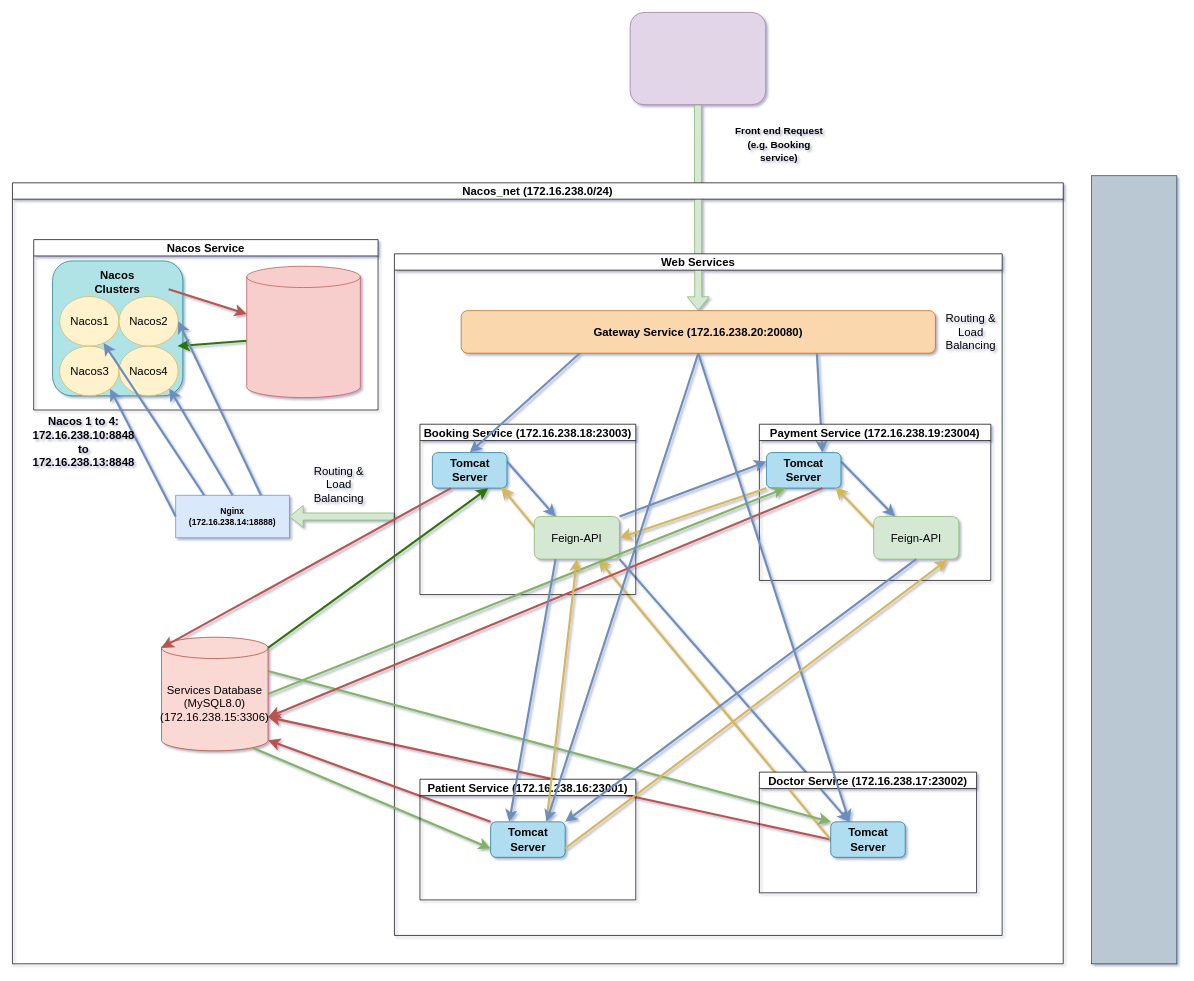
Image size: 1194x981. Some labels were removed from this diagram. Each missing label, with the box of its shape:
Distributed Log: (1091, 175, 1177, 964)
Frontend Applications: (629, 12, 766, 105)
Nacos Database (MySQL8.0) (172.16.238.13:3306): (246, 266, 360, 398)
